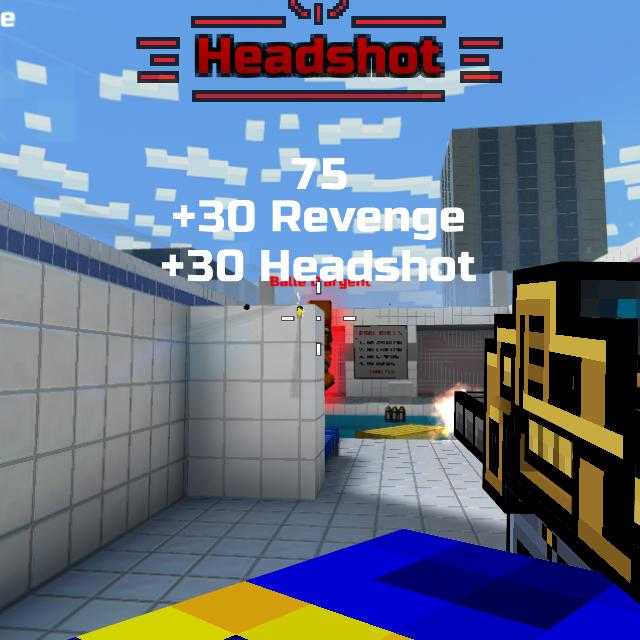Enemy: (307, 300, 335, 391)
